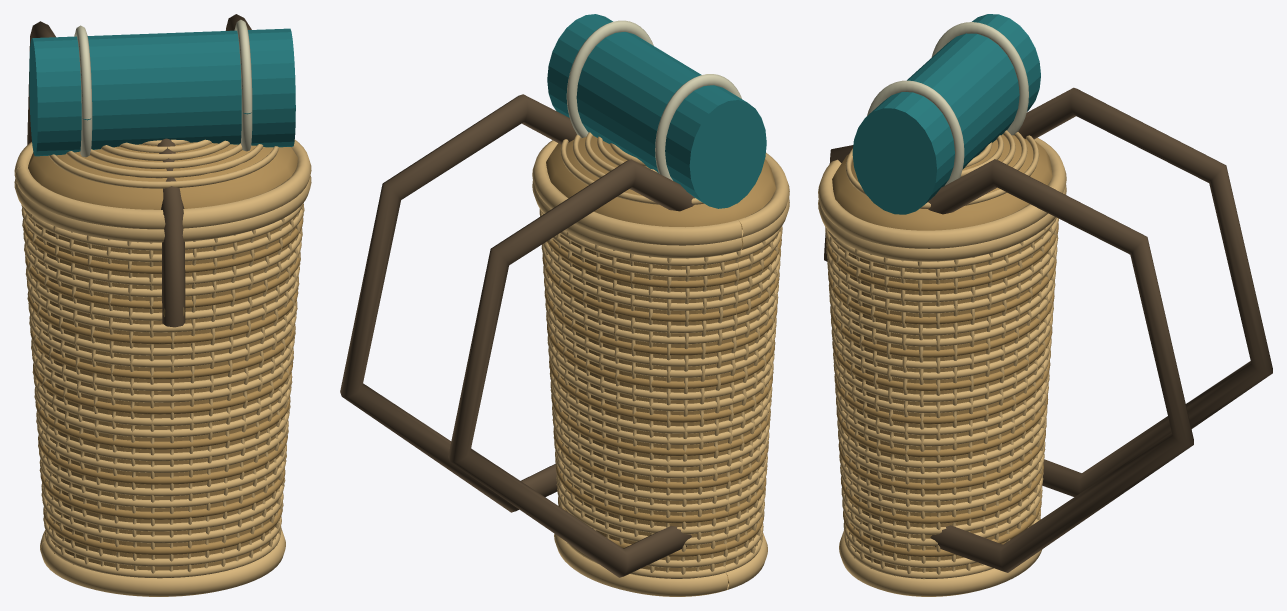
The model's file is StrawBag.fbx.
3 renders of one model, left to right at view 1: azimuth 30°, elevation 25°; view 2: azimuth 150°, elevation 25°; view 3: azimuth 270°, elevation 25°, orthographic. The views are drawn at different scales.
Visible parts, largest first — view 1: SM_StrawBag; view 2: SM_StrawBag; view 3: SM_StrawBag.
Part boxes in pixels (left/top/right/bottom): SM_StrawBag: left=14, top=14, right=311, bottom=596; SM_StrawBag: left=340, top=14, right=789, bottom=596; SM_StrawBag: left=818, top=14, right=1272, bottom=596.
Size of the model in its own units: 0.568 by 0.8638 by 0.7109.
